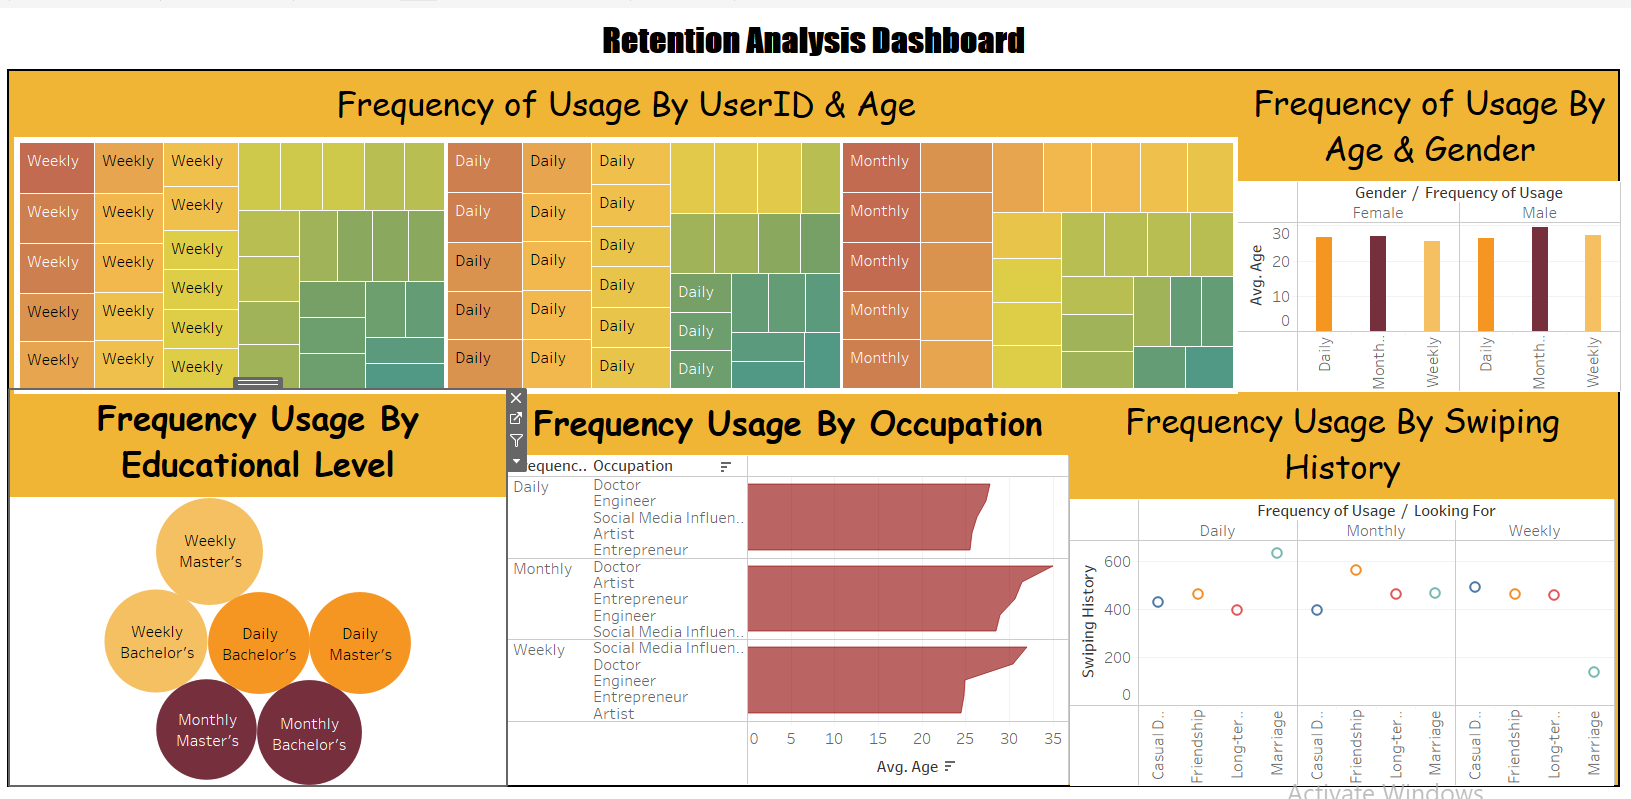

Layout of this report page (visuals, bound fields, positions):
{"tool":"tableau","page":{"name":"Dashboard 1","canvas":[1000,1000],"units":"permille","ordinal":0},"visuals":[{"type":"title","box":[4.9,10.1,990.2,61.9]},{"type":"worksheet","title":"Sheet 2","mark":"Automatic","rows":["Age"],"cols":["Gender","Frequency of Usage"],"box":[759.3,84.7,234,400.8]},{"type":"worksheet","title":"Sheet 1","mark":"Square","box":[11.6,86,747.7,402]},{"type":"worksheet","title":"Sheet 4","mark":"Circle","box":[9.2,482.9,303,499.4]},{"type":"worksheet","title":"Sheet 3","mark":"Shape","rows":["Swiping History"],"cols":["Frequency of Usage","Looking For"],"box":[656.7,486.7,332.9,496.8]},{"type":"worksheet","title":"Sheet 5","mark":"Area","rows":["Frequency of Usage","Occupation"],"cols":["Age"],"box":[312.8,489.2,343.3,493.1]}]}

Visuals, with their boxes on the dashboard's canvas, which has no fixed pixel size, in thousandths of its width and height (x1, y1, x2, y2). These are canvas units, not pixel positions in the 1631x799 screenshot, which may show the page scaled, cropped or inside an application window:
title: 5:10:995:72
"Sheet 2" worksheet: 759:85:993:486
"Sheet 1" worksheet (Square marks): 12:86:759:488
"Sheet 4" worksheet (Circle marks): 9:483:312:982
"Sheet 3" worksheet (Shape marks): 657:487:990:984
"Sheet 5" worksheet (Area marks): 313:489:656:982
